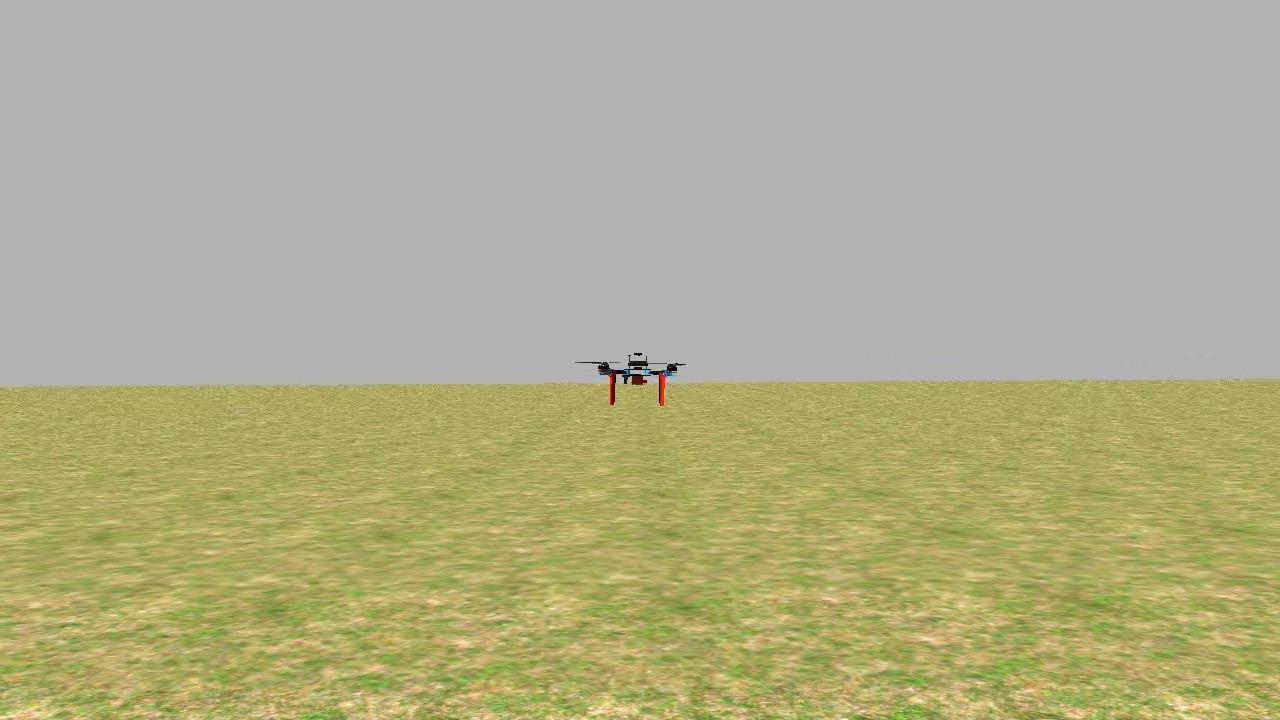UAV: (586, 346, 688, 416)
